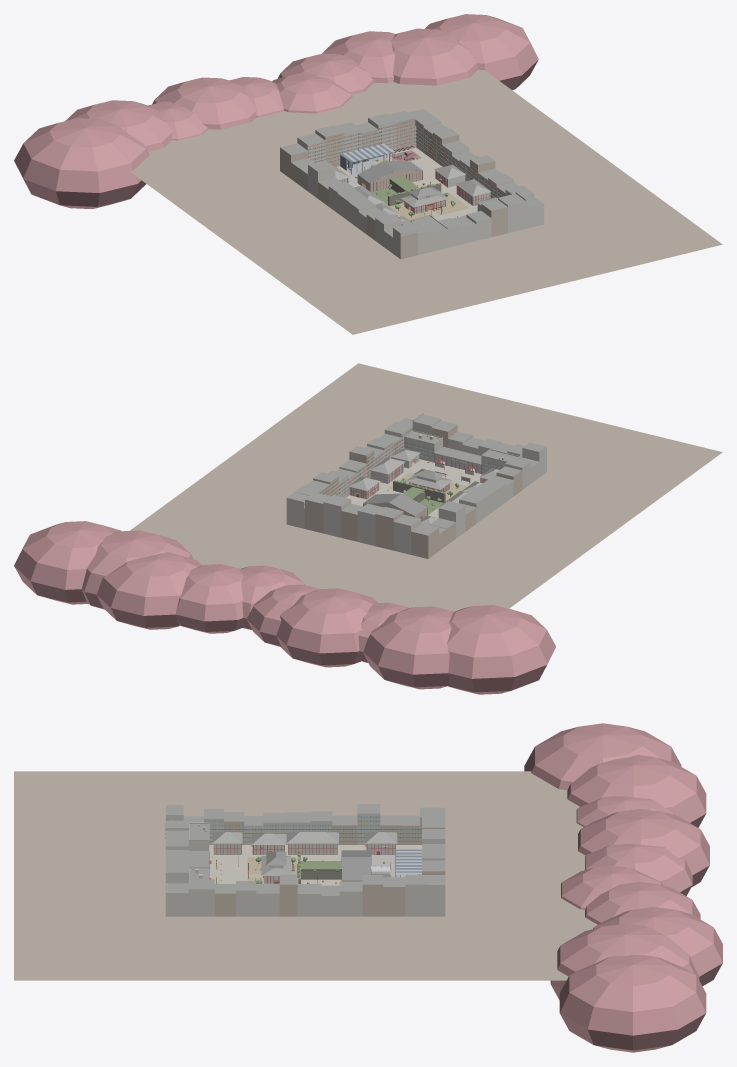
The model's file is Coracao.glb.
The picture shows the model from 3 angles, top to bottom: view 1: azimuth 30°, elevation 25°; view 2: azimuth 150°, elevation 25°; view 3: azimuth 270°, elevation 25°; orthographic projection. The views are drawn at different scales.
Visible parts, largest first — view 1: perimetro.00, chao.00, ventriculo.00, pulmao.00, patio_atrio.00, templo.00, flancos.00; view 2: perimetro.00, base_celulas.00, chao.00, ventriculo.00, patio_atrio.00, flancos.00, templo.00, avenida.00; view 3: perimetro.00, chao.00, pulmao.00, base_celulas.00, flancos.00, ventriculo.00, patio_atrio.00, templo.00, tunel_torii.00, avenida.00.
Boxes of the visible parts, x1,y1,x2,y2 form: perimetro.00: [14, 14, 722, 334]; chao.00: [335, 147, 477, 220]; ventriculo.00: [357, 160, 422, 192]; pulmao.00: [335, 143, 395, 183]; patio_atrio.00: [376, 179, 490, 217]; templo.00: [401, 186, 448, 214]; flancos.00: [354, 164, 465, 205]; perimetro.00: [14, 363, 722, 694]; base_celulas.00: [404, 430, 519, 475]; chao.00: [346, 459, 482, 519]; ventriculo.00: [363, 493, 427, 518]; patio_atrio.00: [370, 457, 482, 496]; flancos.00: [349, 476, 467, 512]; templo.00: [405, 469, 452, 492]; avenida.00: [391, 448, 499, 483]; perimetro.00: [14, 723, 722, 1052]; chao.00: [209, 845, 421, 885]; pulmao.00: [364, 832, 421, 877]; base_celulas.00: [189, 822, 217, 883]; flancos.00: [286, 832, 338, 885]; ventriculo.00: [341, 850, 371, 881]; patio_atrio.00: [248, 833, 295, 883]; templo.00: [261, 852, 291, 883]; tunel_torii.00: [301, 862, 341, 879]; avenida.00: [212, 832, 242, 880].
Size of the model in its own units: 478 by 69.9 by 486.
